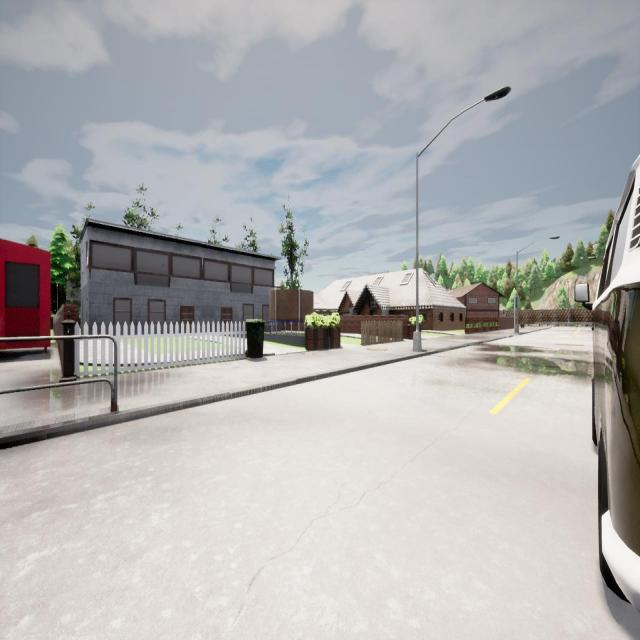Vehicle: (575, 155, 640, 610)
traffic_light: (514, 297, 517, 307)
